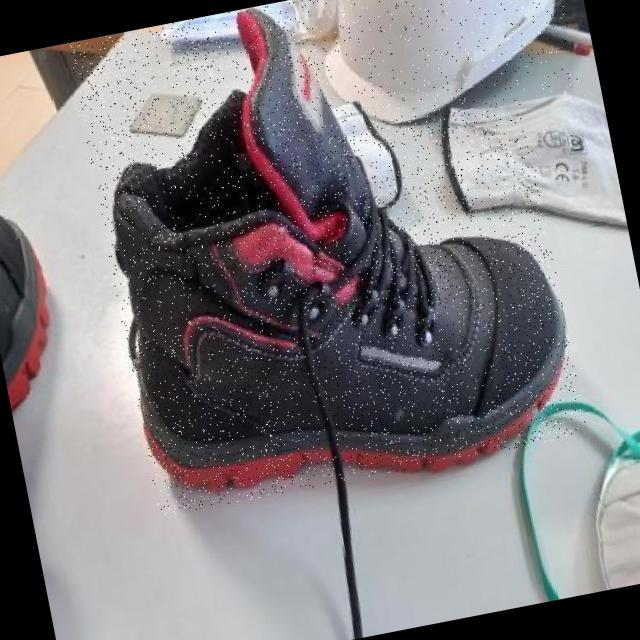hard_hat: (306, 0, 581, 134)
work_boots: (67, 0, 587, 517)
